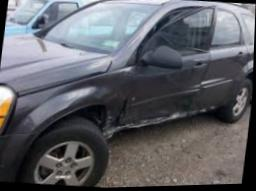Door: (122, 55, 205, 127)
Fender: (11, 67, 133, 137)
